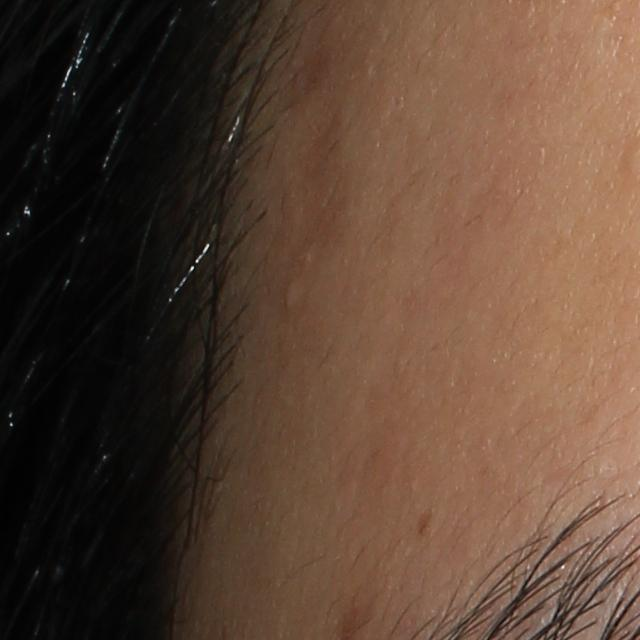comedo: (279, 277, 302, 312)
